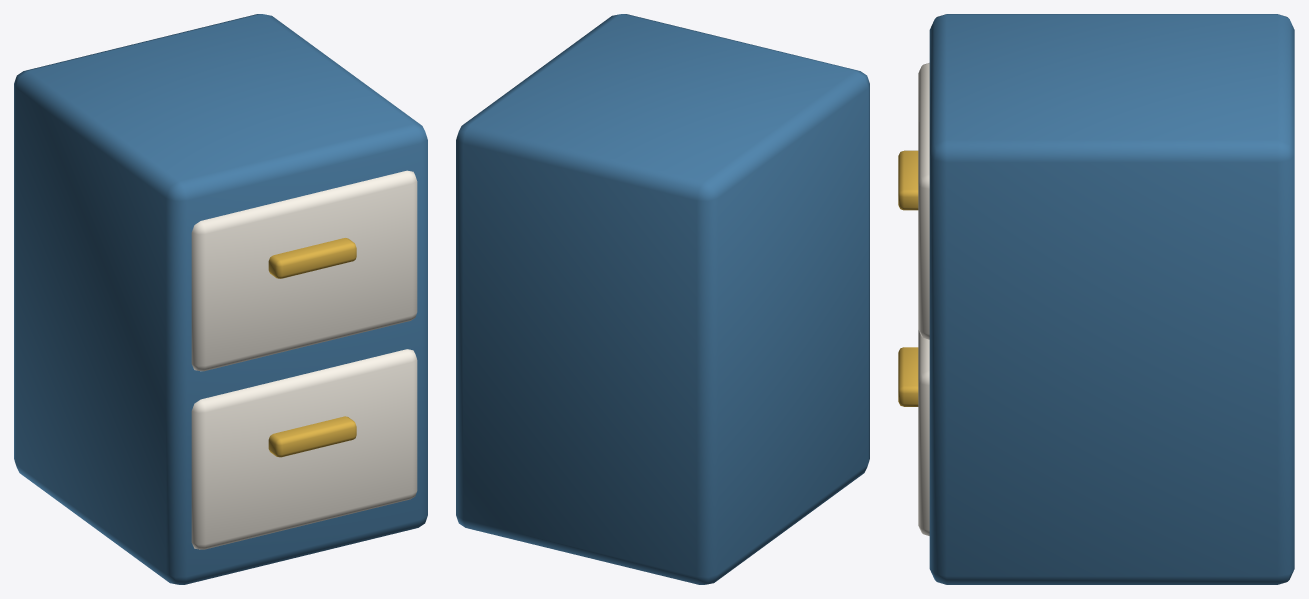
File: Decor_FilingCabinet.fbx
3 views of the same model, side by side, from view 1: azimuth 30°, elevation 25°; view 2: azimuth 150°, elevation 25°; view 3: azimuth 270°, elevation 25° (orthographic). The views are drawn at different scales.
Parts seen in each view (by area): view 1: Cabinet_Body, Cabinet_Drawer_2, Cabinet_Drawer_1, Cabinet_Handle_1, Cabinet_Handle_2; view 2: Cabinet_Body; view 3: Cabinet_Body, Cabinet_Drawer_2, Cabinet_Drawer_1, Cabinet_Handle_2, Cabinet_Handle_1.
Part boxes in pixels (box(x1,y1,x2,y2)): Cabinet_Body: box(14, 14, 427, 584); Cabinet_Drawer_2: box(191, 170, 417, 371); Cabinet_Drawer_1: box(191, 349, 417, 549); Cabinet_Handle_1: box(268, 416, 356, 457); Cabinet_Handle_2: box(268, 238, 356, 278); Cabinet_Body: box(456, 14, 869, 584); Cabinet_Body: box(929, 14, 1294, 584); Cabinet_Drawer_2: box(918, 63, 929, 339); Cabinet_Drawer_1: box(918, 330, 929, 535); Cabinet_Handle_2: box(898, 150, 918, 210); Cabinet_Handle_1: box(898, 347, 918, 406).
Bounding box in the file's own units: 5.8 × 8.6 × 6.95.
